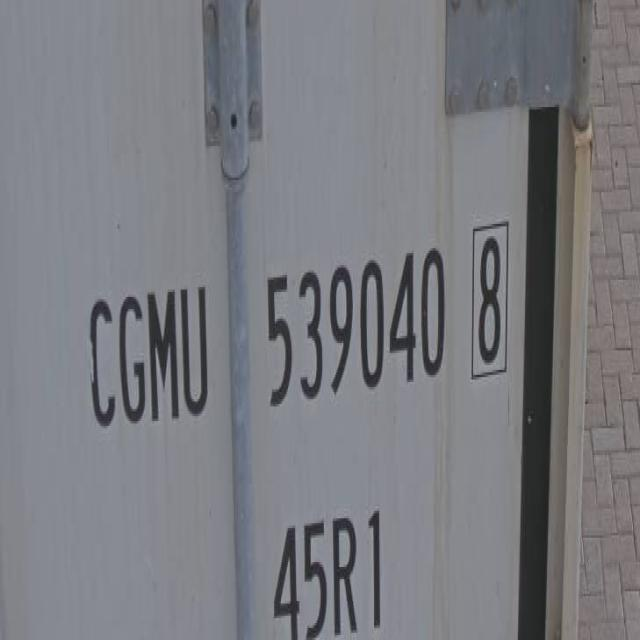dv: (466, 208, 512, 396)
owner: (81, 244, 213, 445)
serial: (261, 215, 448, 423)
size: (263, 492, 387, 640)
